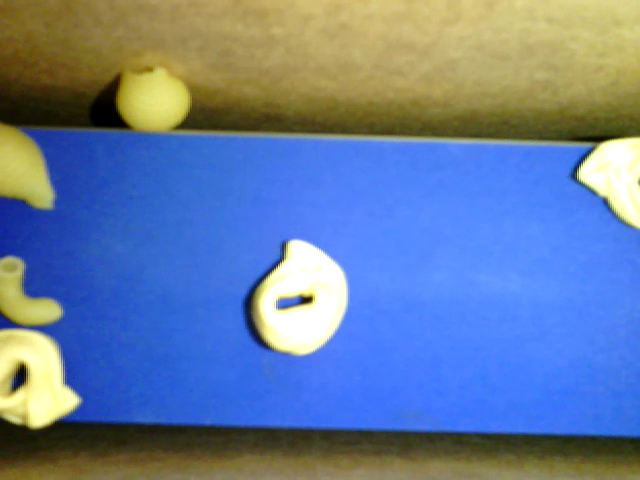elbow: (1, 256, 63, 326)
shell: (1, 121, 55, 209), (118, 67, 191, 131)
tortellini: (251, 238, 348, 356), (1, 328, 82, 430), (575, 136, 639, 230)
